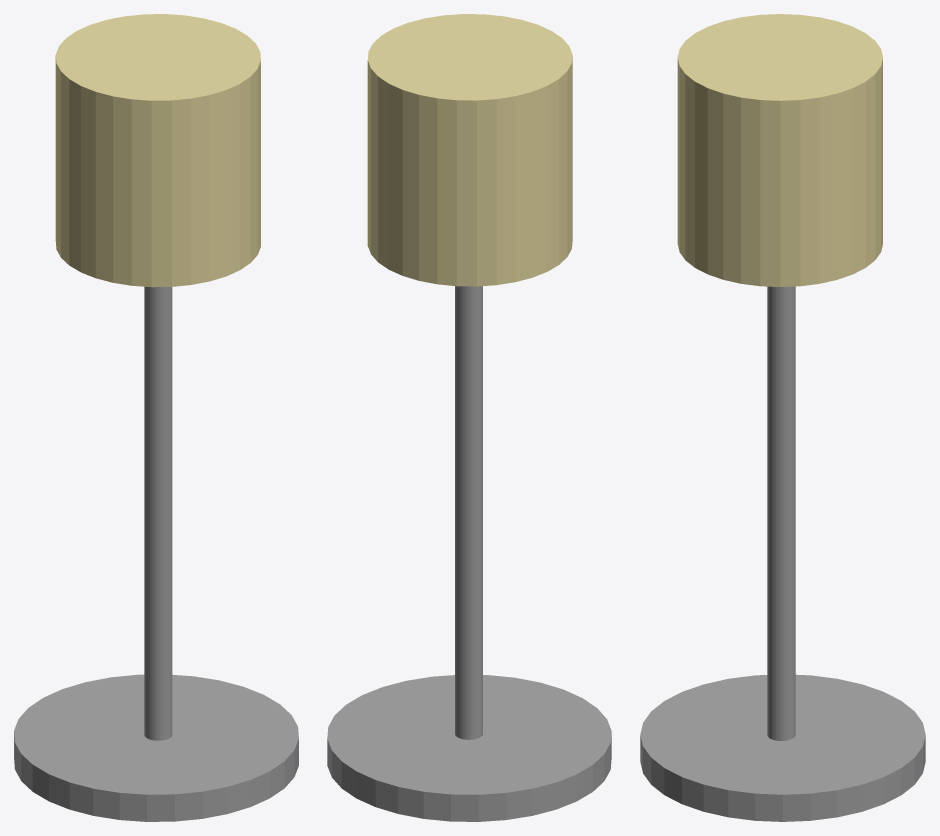
Rendered from lampe.dae.
The picture shows the model from 3 angles, left to right: view 1: azimuth 30°, elevation 25°; view 2: azimuth 150°, elevation 25°; view 3: azimuth 270°, elevation 25°; orthographic projection.
Visible parts, largest first — view 1: Cylinder; view 2: Cylinder; view 3: Cylinder.
Part boxes in pixels (x1,y1,x2,y2): Cylinder: (14,14,298,821); Cylinder: (327,14,611,821); Cylinder: (640,14,925,821).
Bounding box in the file's own units: 0.7314 × 0.7314 × 1.99.
